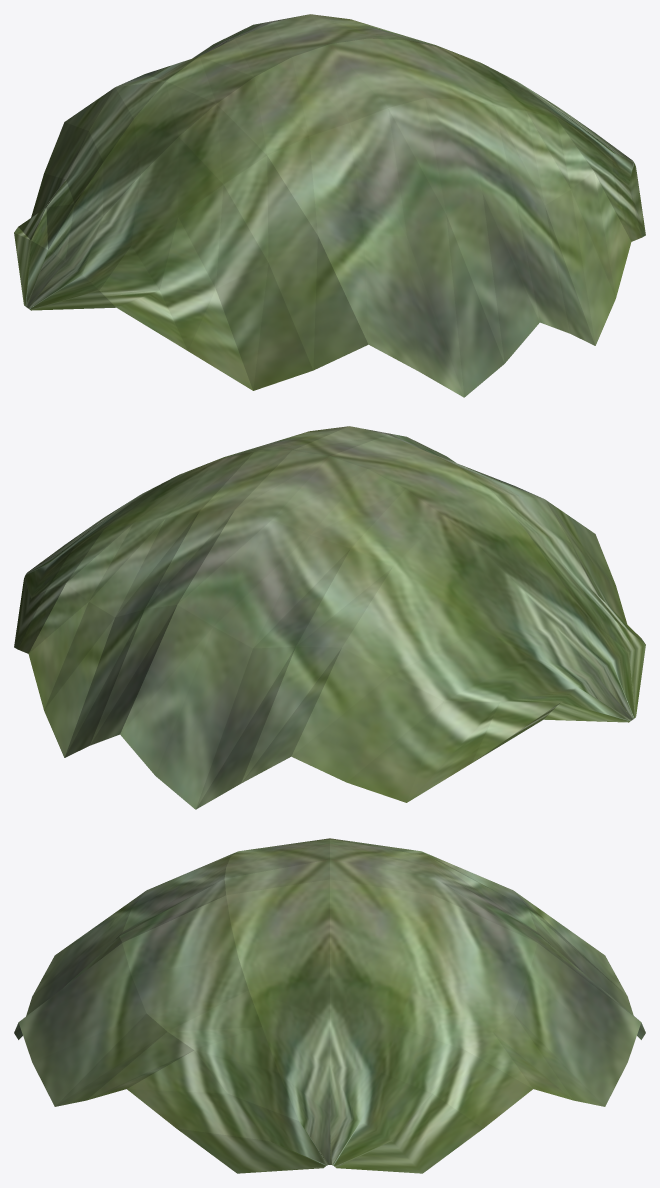
The model's file is leaf.dae.
The picture shows the model from 3 angles, top to bottom: view 1: azimuth 30°, elevation 25°; view 2: azimuth 150°, elevation 25°; view 3: azimuth 270°, elevation 25°; orthographic projection. The views are drawn at different scales.
Parts seen in each view (by area): view 1: mesh; view 2: mesh; view 3: mesh.
Boxes of the visible parts, x1=… form: mesh: x1=14, y1=14, x2=645, y2=397; mesh: x1=14, y1=426, x2=645, y2=809; mesh: x1=14, y1=838, x2=645, y2=1173.
Size of the model in its own units: 2 by 2 by 0.69.
Materials: 1 (1 with a texture image).
